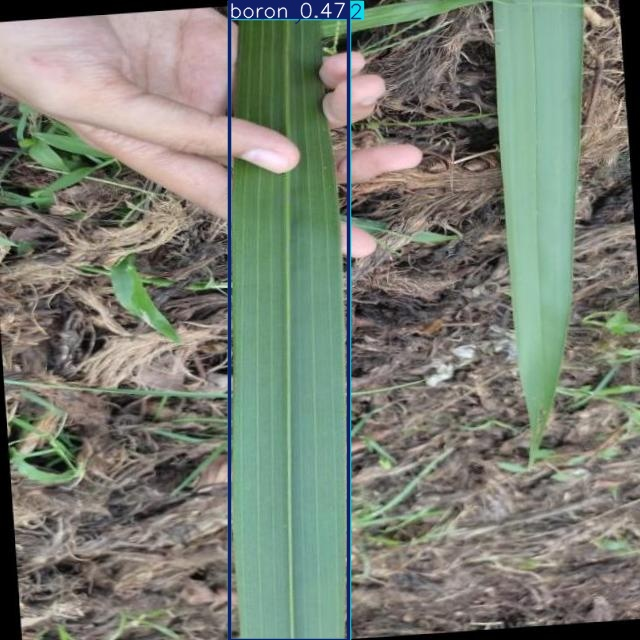Healthy: (229, 1, 349, 640)
nitrogen: (229, 0, 349, 640)
